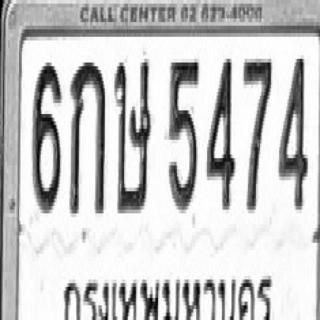A01: (68, 59, 105, 217)
A39: (114, 55, 152, 213)
N04: (278, 55, 308, 210), (206, 55, 236, 210)
N05: (168, 57, 199, 212)
N06: (31, 59, 61, 213)
N07: (242, 57, 272, 212)
P04: (61, 265, 277, 320)
